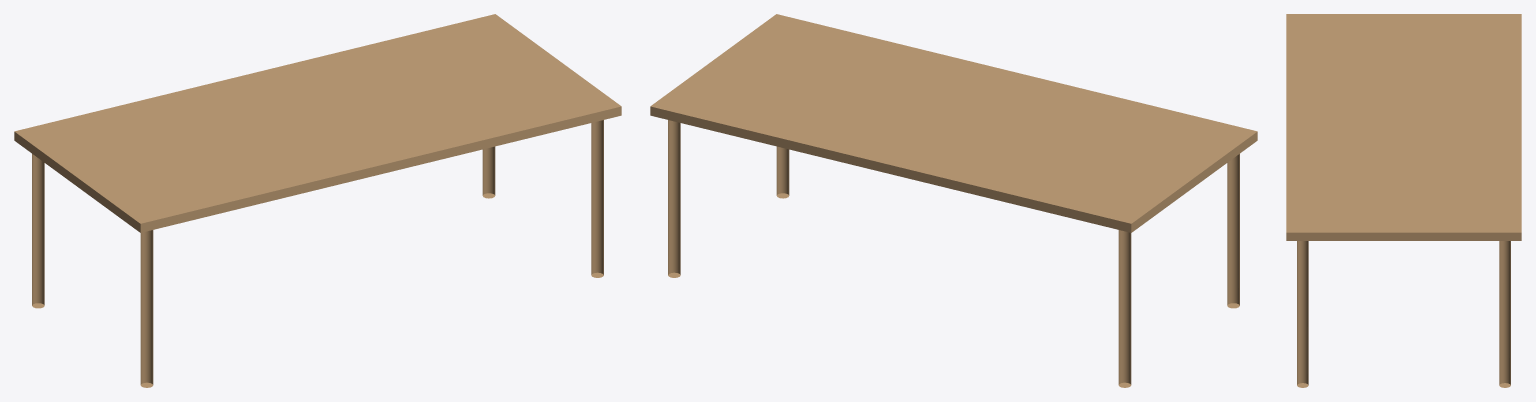
The model's file is dining_table_05.glb.
The picture shows the model from 3 angles, left to right: view 1: azimuth 30°, elevation 25°; view 2: azimuth 150°, elevation 25°; view 3: azimuth 270°, elevation 25°; orthographic projection. The views are drawn at different scales.
Bounding box in the file's own units: 2.2 × 0.75 × 1.
